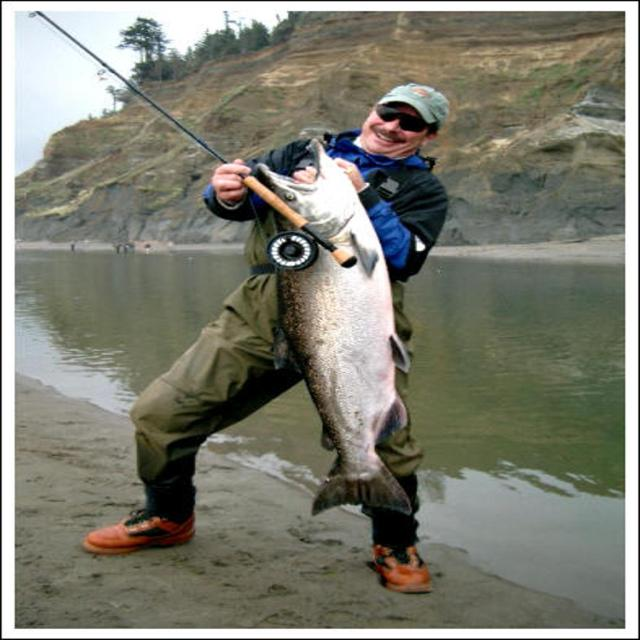Face: (362, 107, 449, 161)
